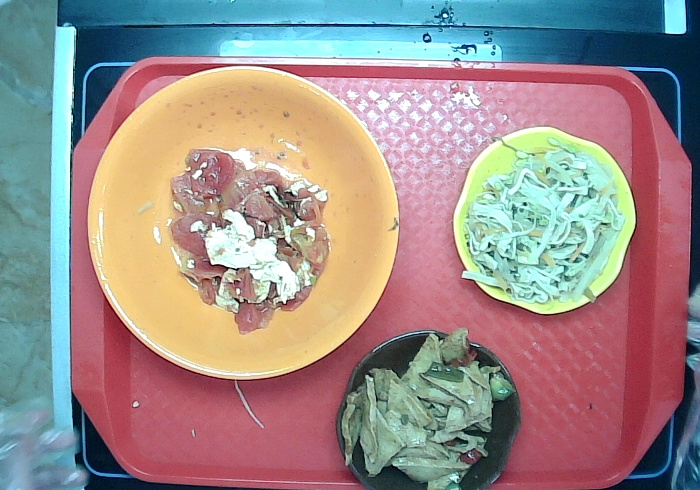YKMZ-Huang_Se_Ao_Bian_Wan: (445, 121, 647, 319)
YKMZ-Ju_Se_Tang_Wan: (84, 60, 409, 384)
YKMZ-Ka_Fei_Ao_Bian_Wan: (327, 324, 526, 487)
